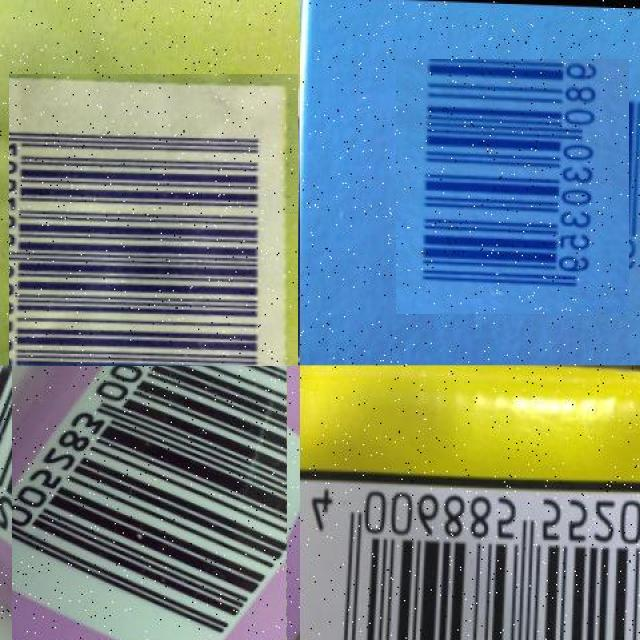Barcode: (8, 75, 299, 366), (6, 359, 293, 640), (390, 64, 635, 308), (300, 479, 640, 640)
